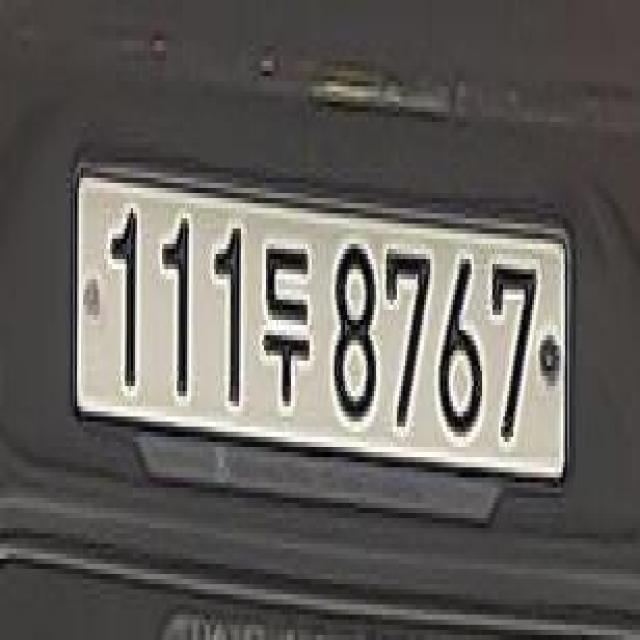illegal_plate: (68, 152, 572, 536)
